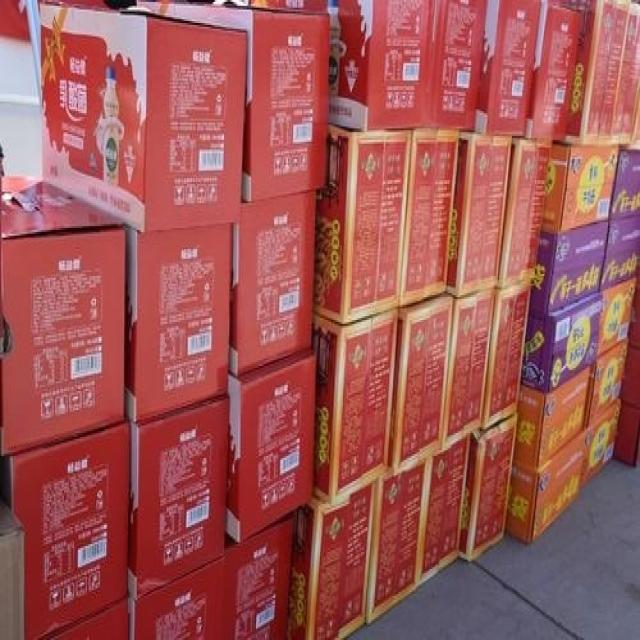box: (38, 2, 247, 234), (138, 2, 330, 205), (0, 171, 127, 458), (9, 423, 128, 640), (252, 0, 433, 132), (125, 391, 229, 602), (124, 224, 234, 423), (314, 121, 412, 326), (225, 347, 316, 544), (310, 310, 399, 508), (232, 192, 316, 376), (287, 479, 374, 640), (552, 0, 640, 148), (388, 289, 454, 475), (447, 130, 515, 297), (365, 456, 430, 627), (401, 126, 461, 309), (223, 508, 293, 640), (475, 0, 541, 136), (495, 134, 552, 291), (460, 408, 517, 563), (442, 286, 495, 452), (460, 410, 517, 563), (506, 431, 586, 540), (522, 291, 602, 395), (125, 558, 224, 640), (513, 366, 594, 466), (526, 0, 581, 140), (530, 220, 611, 314), (420, 433, 468, 590), (481, 282, 532, 429), (541, 142, 621, 232), (483, 284, 532, 429), (433, 0, 486, 130), (585, 337, 630, 429), (580, 393, 621, 492), (596, 272, 637, 362), (35, 600, 127, 640), (600, 215, 640, 293), (609, 146, 640, 220), (613, 402, 640, 466), (621, 343, 640, 410), (628, 270, 640, 351)
